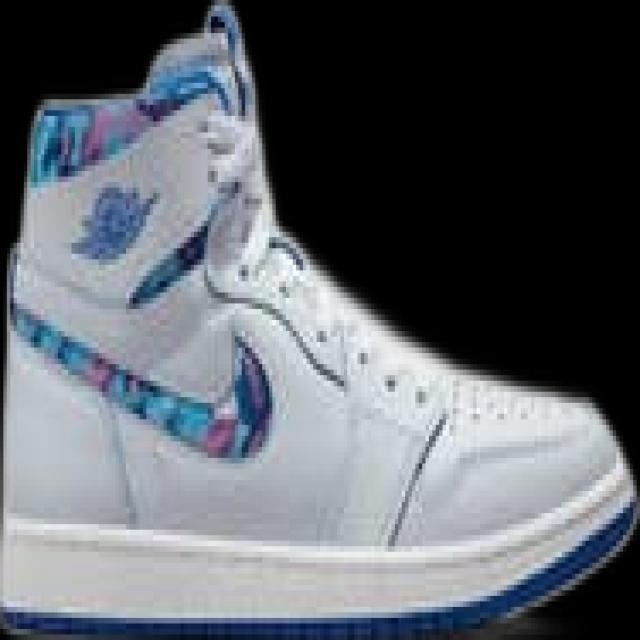J1_MateComp: (2, 3, 636, 635)
J1_ShoeLogo: (69, 179, 160, 263)
J1_ShoeShape: (9, 7, 279, 463)
J1_StitchPattern: (218, 229, 454, 547), (10, 298, 275, 460), (200, 5, 275, 460), (377, 373, 534, 549), (208, 231, 355, 395), (382, 411, 451, 549), (264, 301, 349, 391), (127, 220, 213, 308), (228, 334, 273, 460), (203, 5, 250, 118), (265, 233, 307, 273)
